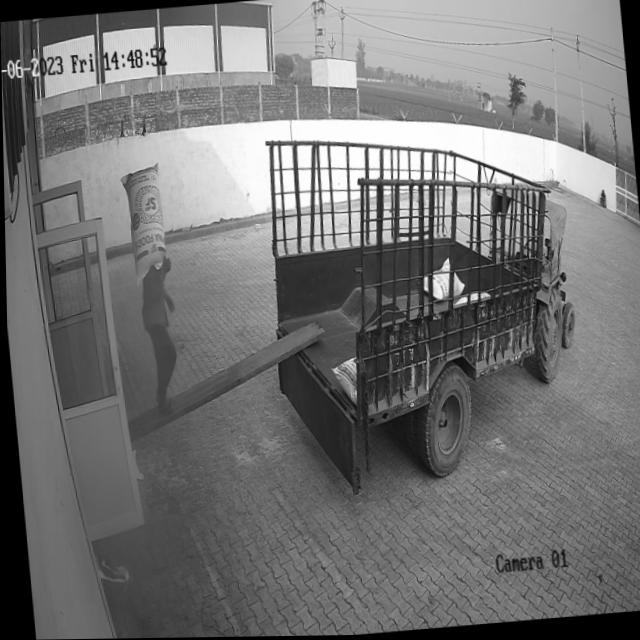sack: (117, 162, 166, 283)
